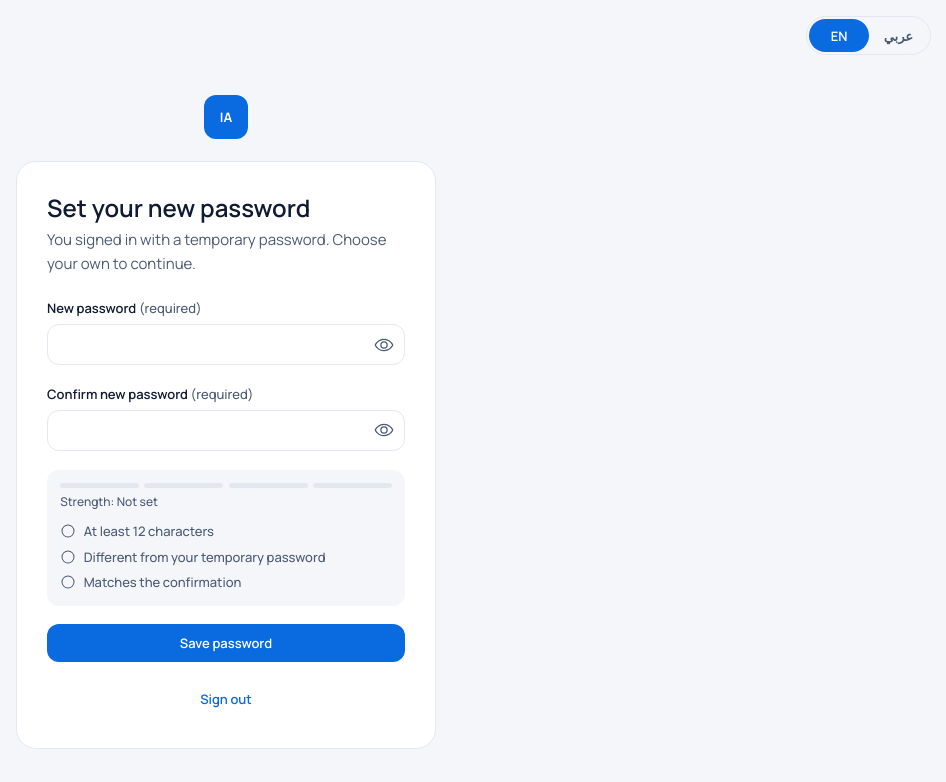
Test case: set-password page › rejects a confirmation that does not match
Click the password field with id "field-new_password". click: (226, 345)
box: [47, 324, 405, 365]
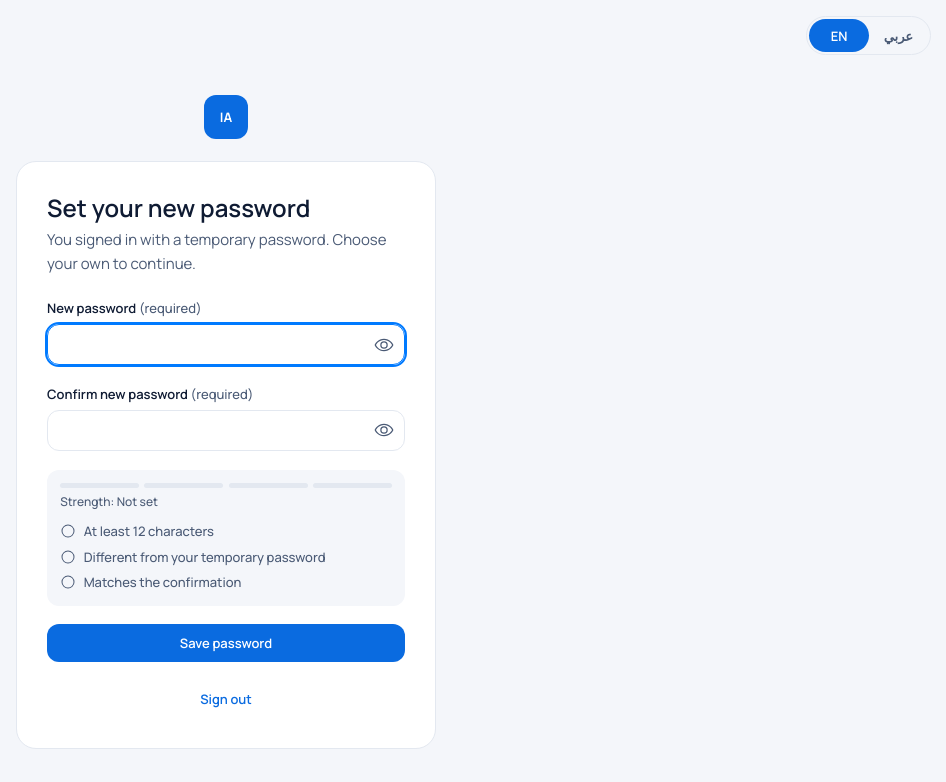
Type keys "a-long-enough-password"
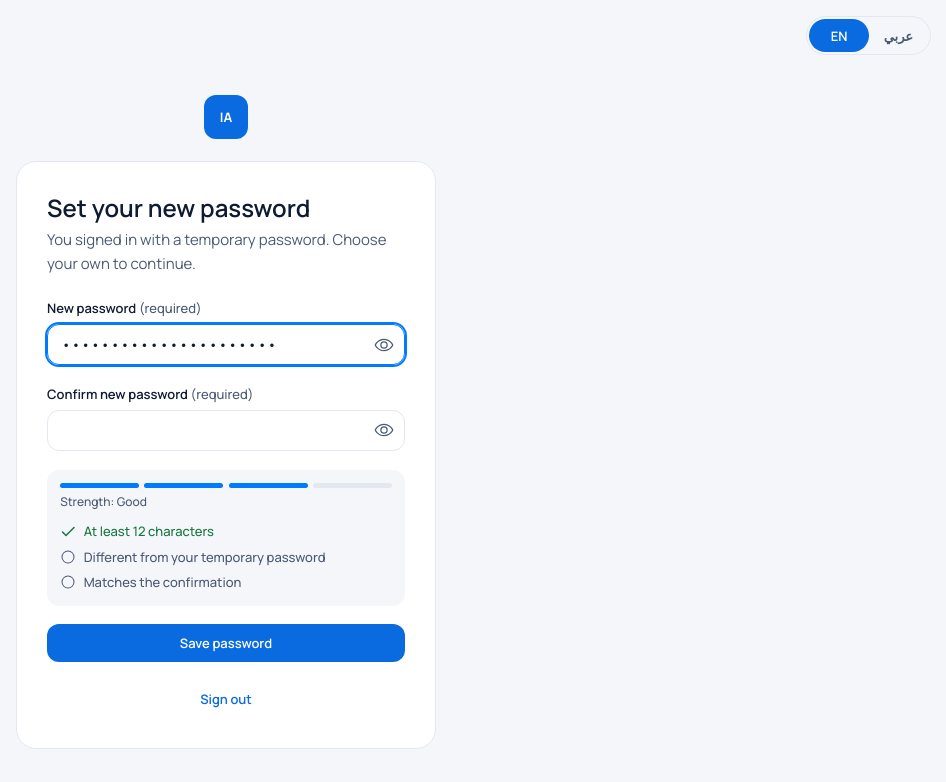
Click the password field with id "field-confirm_password". click: (226, 430)
box: [47, 410, 405, 451]
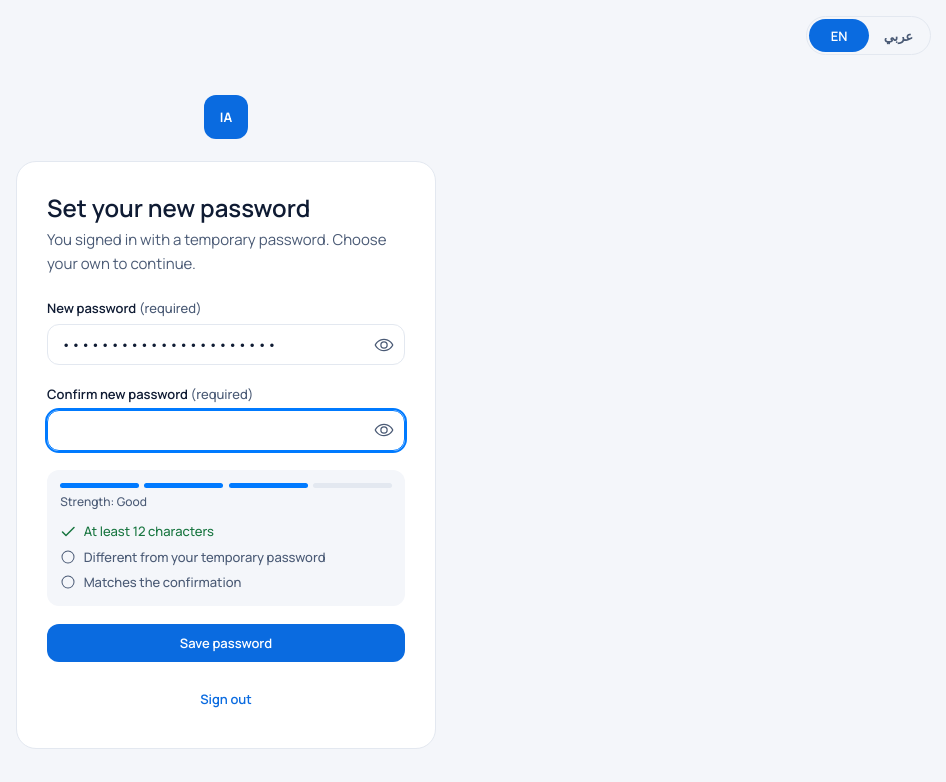
Type keys "a-long-enough-passwor"
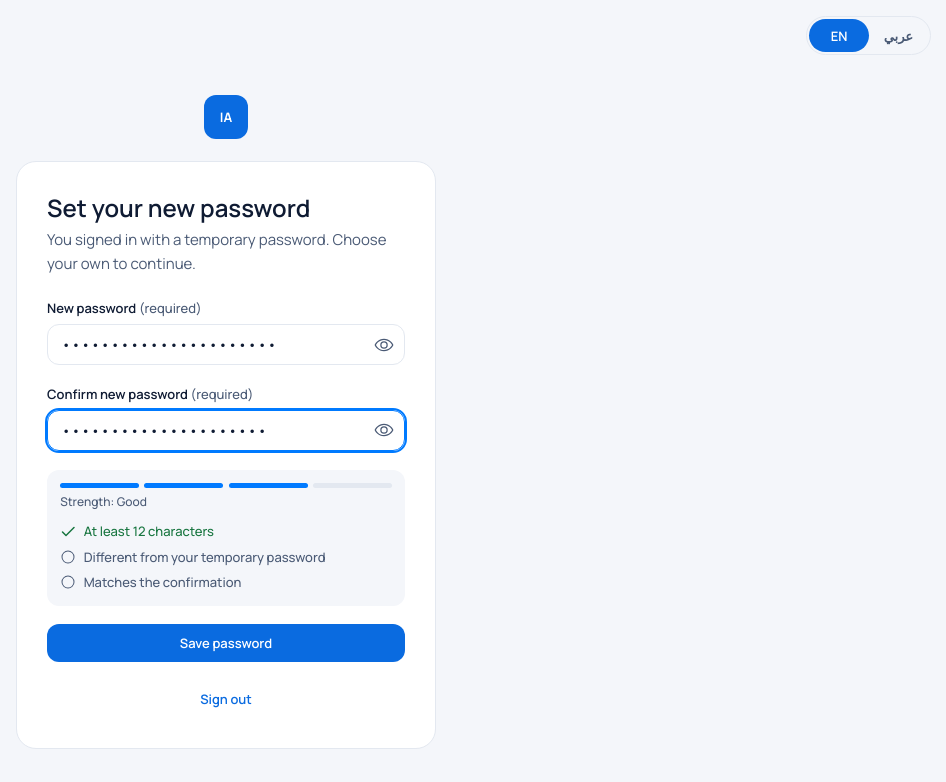
Click the button "Save password". click: (226, 643)
box: [47, 624, 405, 662]
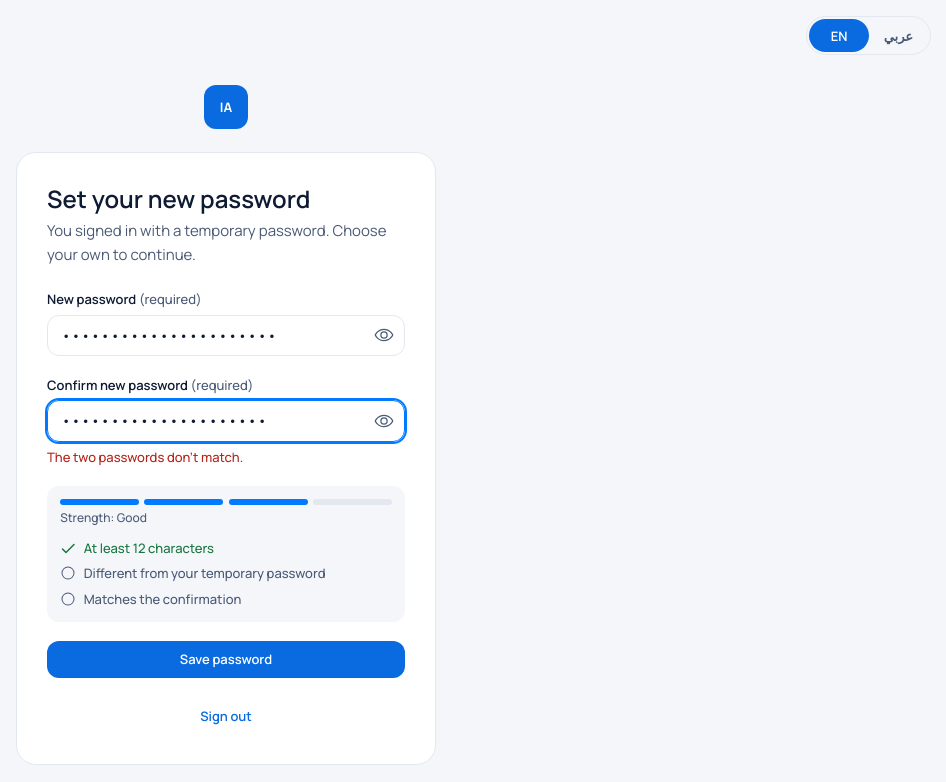
Expected: the message reads "The two passwords don't match.", [47, 448, 243, 466]
